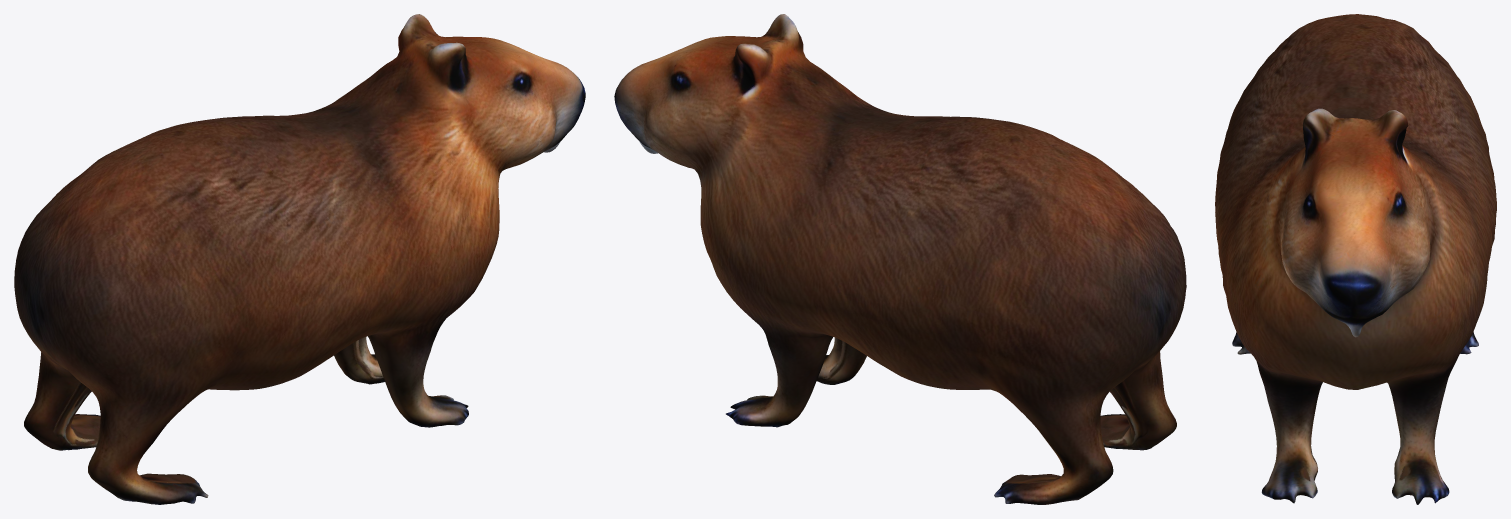
File: capy3d.glb
3 renders of one model, left to right at view 1: azimuth 30°, elevation 25°; view 2: azimuth 150°, elevation 25°; view 3: azimuth 270°, elevation 25°, orthographic. The views are drawn at different scales.
Visible parts, largest first — view 1: mesh; view 2: mesh; view 3: mesh.
Part boxes in pixels (bbox=[...]): mesh: bbox=[14, 14, 585, 504]; mesh: bbox=[614, 14, 1186, 504]; mesh: bbox=[1215, 14, 1496, 504].
Bounding box in the file's own units: 0.9994 × 0.6331 × 0.411.
1 material, 1 textured.
